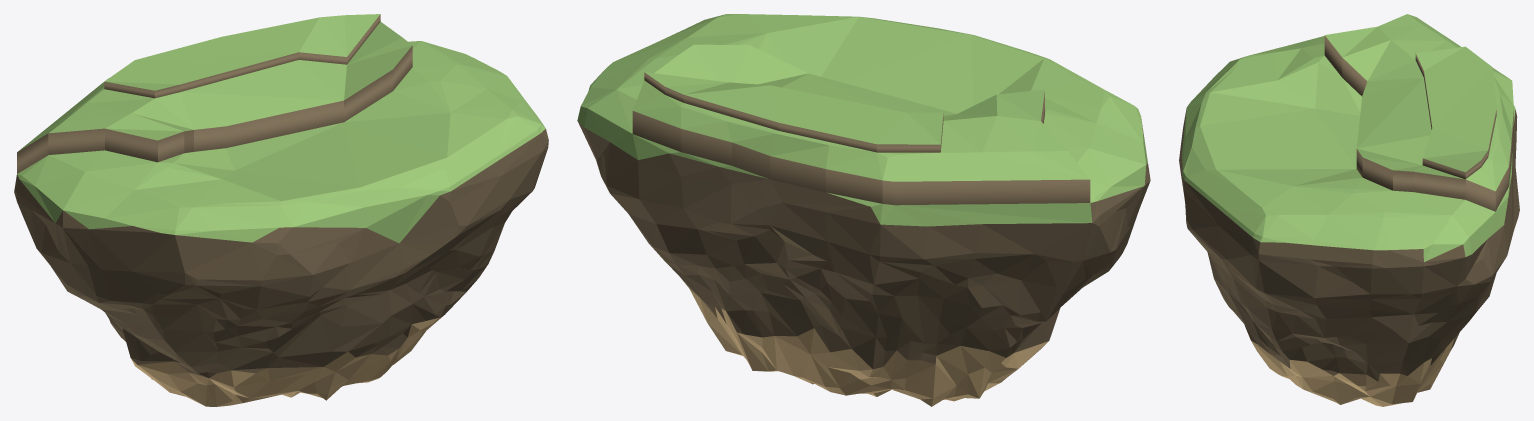
The model's file is floating island og.fbx.
3 views of the same model, side by side, from view 1: azimuth 30°, elevation 25°; view 2: azimuth 150°, elevation 25°; view 3: azimuth 270°, elevation 25° (orthographic). The views are drawn at different scales.
Visible parts, largest first — view 1: polySurface3; view 2: polySurface3; view 3: polySurface3.
Boxes of the visible parts, x1,y1,x2,y2 form: polySurface3: (14,14,548,406); polySurface3: (577,14,1150,406); polySurface3: (1179,14,1519,406).
Size of the model in its own units: 21.29 by 12.48 by 14.13.
